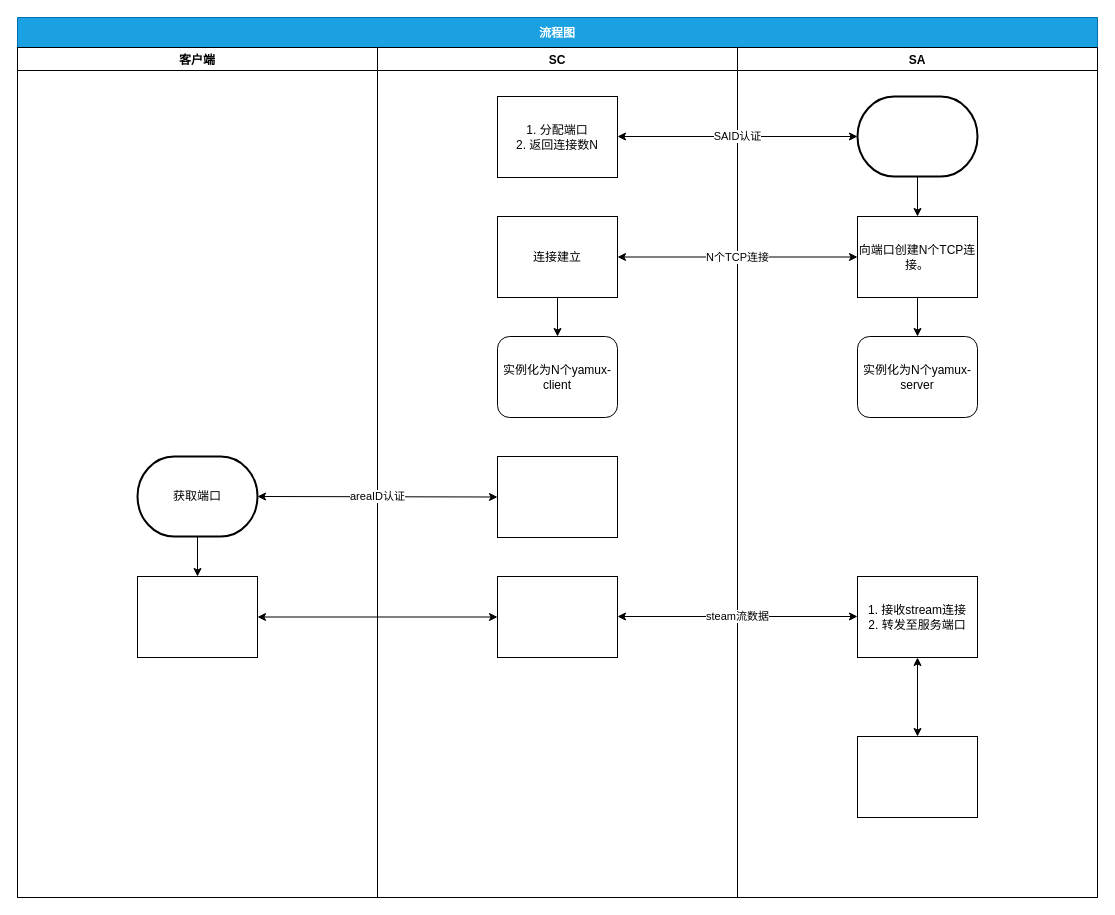
Image size: 1115x915. Some labels were removed from this diagram. Here are the shapes that lost their labels. From the top down, the box of each, then its label:
(856, 95, 978, 177): 请求通道端口
(496, 456, 618, 538): 返回用户通道端口
(136, 576, 258, 658): 1. 记录端口 2. 请求端口
(496, 576, 618, 658): 1. 创建stream连接 2. 绑定用户连接 3. 转发数据
(856, 736, 978, 818): 数据业务处理
